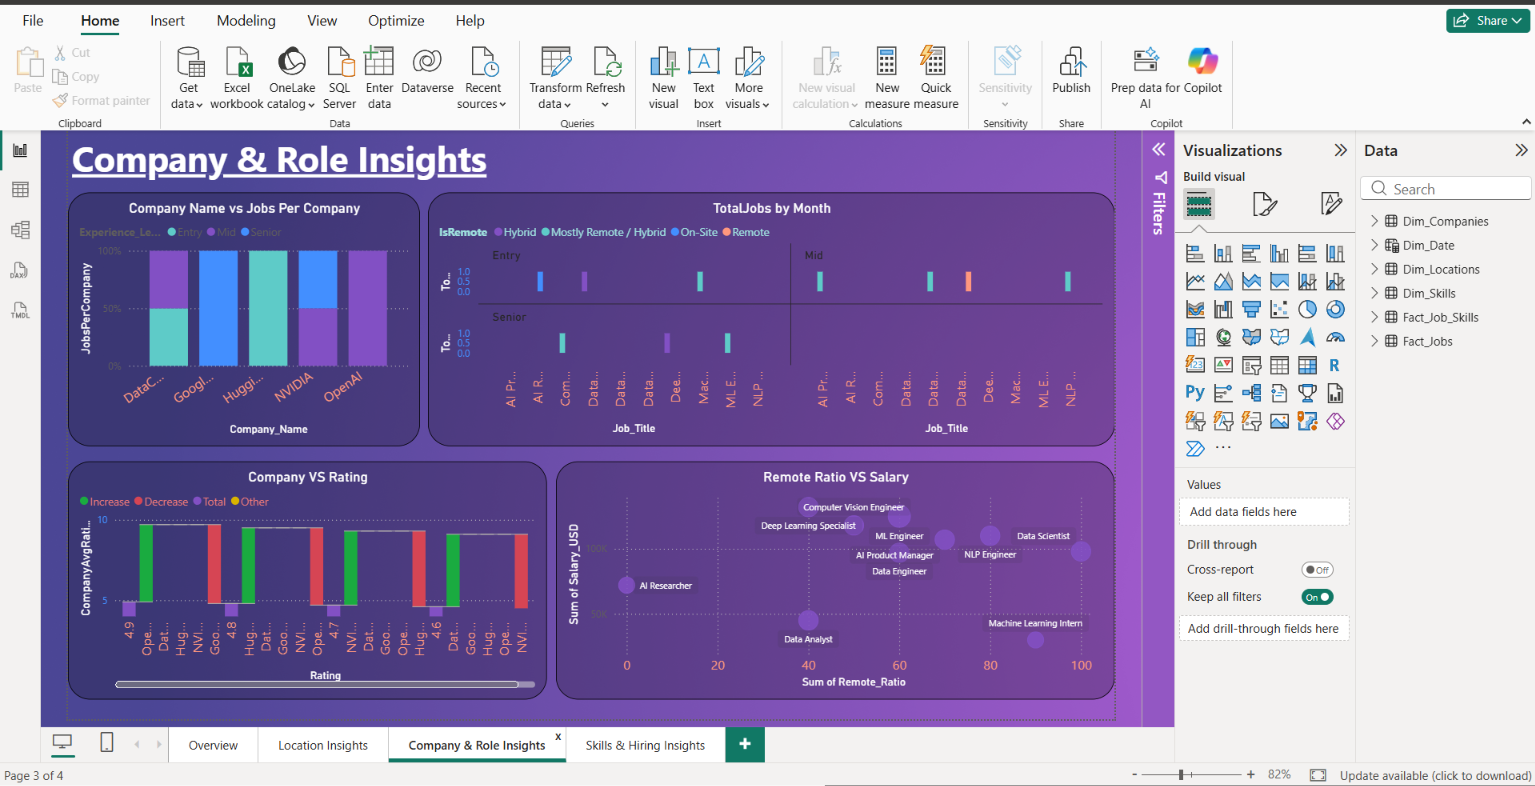

Layout of this report page (visuals, bound fields, positions):
{"tool":"powerbi","page":{"name":"Company & Role Insights","canvas":[1280,720],"ordinal":2},"visuals":[{"type":"textbox","box":[0,0,555.2,75.8],"z":0},{"type":"hundredPercentStackedColumnChart","title":"Company Name vs Jobs Per Company ","fields":{"Category":["Dim_Companies.Company_Name"],"Y":["Dim_Companies.JobsPerCompany"],"Series":["Fact_Jobs.Experience_Level"]},"box":[0,75.8,430.4,310.6],"z":1000},{"type":"waterfallChart","title":"Company VS Rating","fields":{"Category":["Dim_Companies.Rating"],"Y":["Dim_Companies.CompanyAvgRating"],"Breakdown":["Dim_Companies.Company_Name"]},"box":[0,404.8,585.7,291],"z":2000},{"type":"clusteredColumnChart","title":"TotalJobs by Month","fields":{"Category":["Fact_Jobs.Job_Title"],"Y":["Fact_Jobs.TotalJobs"],"Series":["Fact_Jobs.IsRemote"],"Rows":["Fact_Jobs.Experience_Level"]},"box":[440.2,75.8,840.1,310.6],"z":3000},{"type":"scatterChart","title":"Remote Ratio VS Salary","fields":{"Category":["Fact_Jobs.Job_Title"],"X":["Sum(Fact_Jobs.Remote_Ratio)"],"Y":["Sum(Fact_Jobs.Salary_USD)"],"Size":["Dim_Skills.SkillUsageCount"]},"box":[596.7,404.8,683.6,291],"z":4000}]}

Visuals, with their boxes on the page's 1280x720 design canvas (x1, y1, x2, y2). These are canvas units, not pixel positions in the 1535x786 screenshot, which may show the page scaled, cropped or inside an application window:
textbox: pyautogui.locateOnScreen(0, 0, 555, 76)
"Company Name vs Jobs Per Company " hundredPercentStackedColumnChart: pyautogui.locateOnScreen(0, 76, 430, 386)
"Company VS Rating" waterfallChart: pyautogui.locateOnScreen(0, 405, 586, 696)
"TotalJobs by Month" clusteredColumnChart: pyautogui.locateOnScreen(440, 76, 1280, 386)
"Remote Ratio VS Salary" scatterChart: pyautogui.locateOnScreen(597, 405, 1280, 696)
